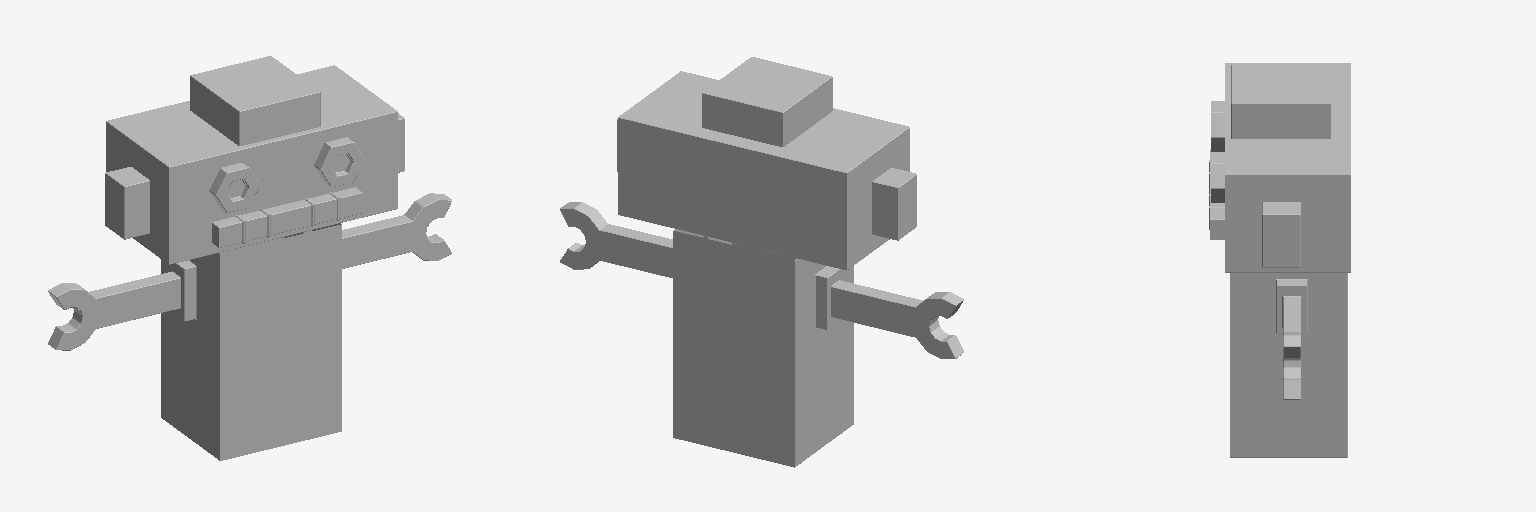
Rendered from Robot.obj.
3 renders of one model, left to right at view 1: azimuth 30°, elevation 25°; view 2: azimuth 150°, elevation 25°; view 3: azimuth 270°, elevation 25°, orthographic.
Parts seen in each view (by area): view 1: Robot; view 2: Robot; view 3: Robot.
Boxes of the visible parts, box(x1,y1,x2,y2) form: Robot: box(48, 56, 451, 460); Robot: box(560, 57, 963, 467); Robot: box(1209, 63, 1350, 457).
Size of the model in its own units: 51.75 by 42.92 by 16.14.